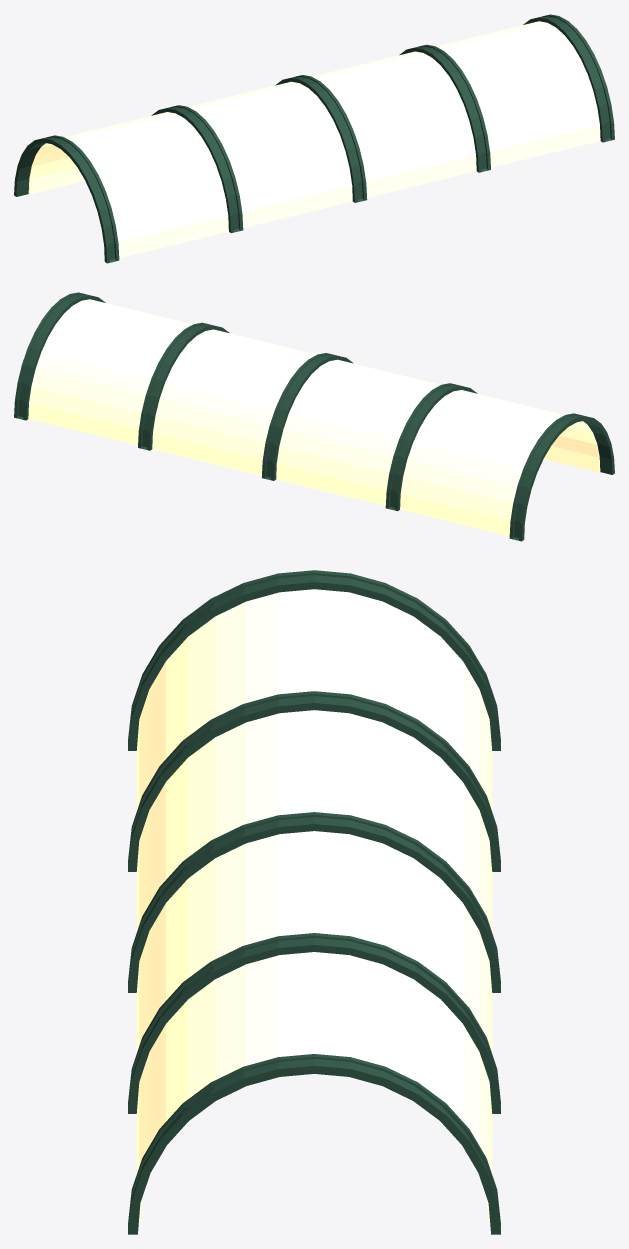
File: Launch-Tube-1.glb
3 views of the same model, one above another, from view 1: azimuth 30°, elevation 25°; view 2: azimuth 150°, elevation 25°; view 3: azimuth 270°, elevation 25° (orthographic). The views are drawn at different scales.
Visible parts, largest first — view 1: Cylinder.009, Cylinder.008; view 2: Cylinder.009, Cylinder.008; view 3: Cylinder.009, Cylinder.008.
Part boxes in pixels (x1,y1,x2,y2): Cylinder.009: (28, 21, 600, 258); Cylinder.008: (14, 14, 614, 263); Cylinder.009: (28, 299, 600, 536); Cylinder.008: (14, 292, 614, 541); Cylinder.009: (136, 589, 492, 1222); Cylinder.008: (128, 570, 500, 1234).
Size of the model in its own units: 19.74 by 3.14 by 6.27.
